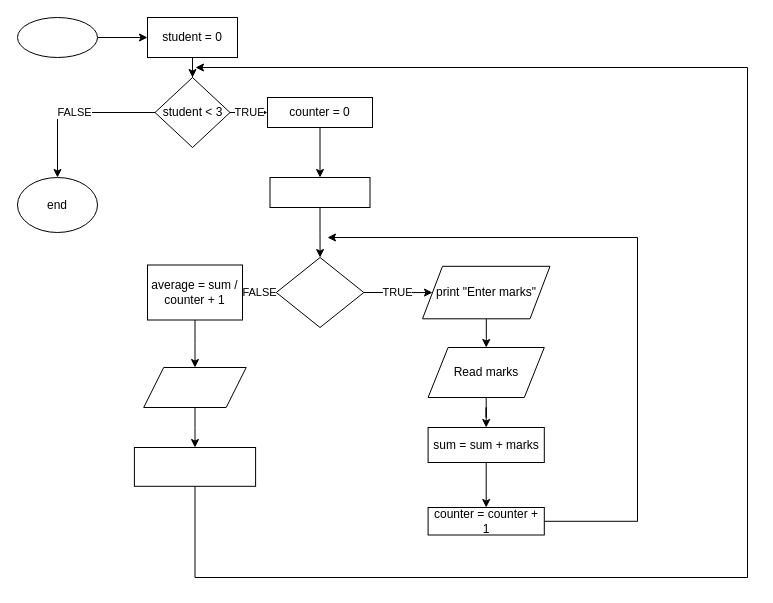
The diagram is 773 pixels wide and 603 high, and some of its shapes have lost their labels. The centre of each missing label's shape, as x and y in pixels:
"counter < 5" goes at (x=319, y=292).
"print average" goes at (x=194, y=387).
"START" goes at (x=57, y=37).
"student = student + 1" goes at (x=194, y=466).
"sum = 0" goes at (x=319, y=192).
